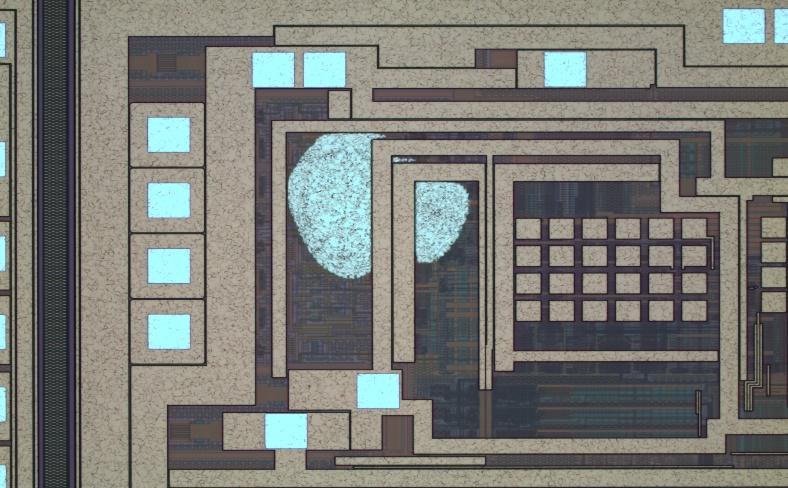BLOCK ETCH: (276, 116, 480, 291)
